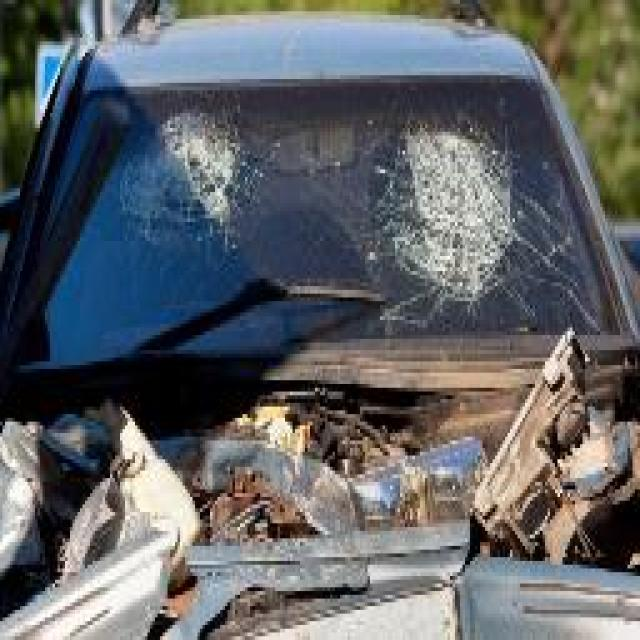Bonnet: (0, 358, 640, 640)
Windshield: (15, 75, 640, 346)
